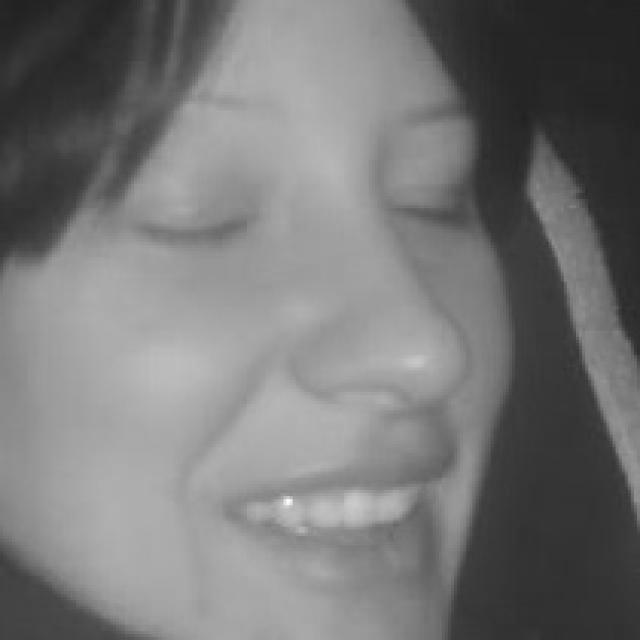real: (0, 0, 518, 640), (118, 164, 504, 268)
